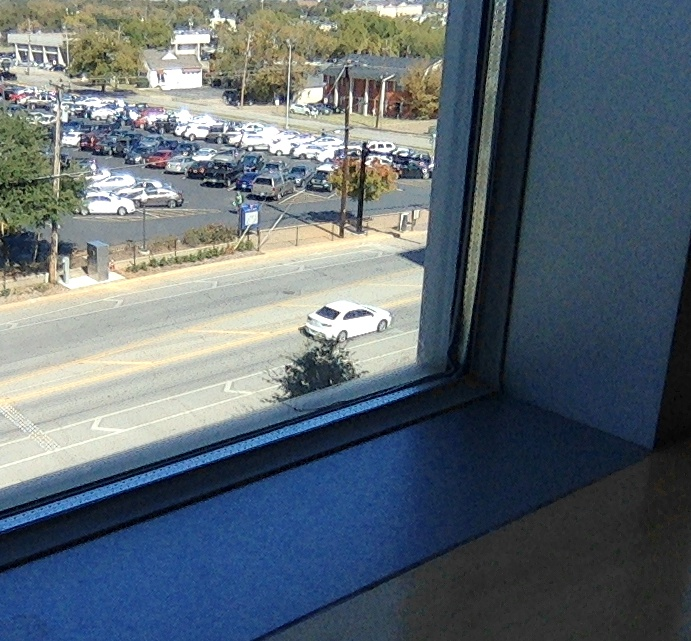car: (300, 300, 391, 341)
